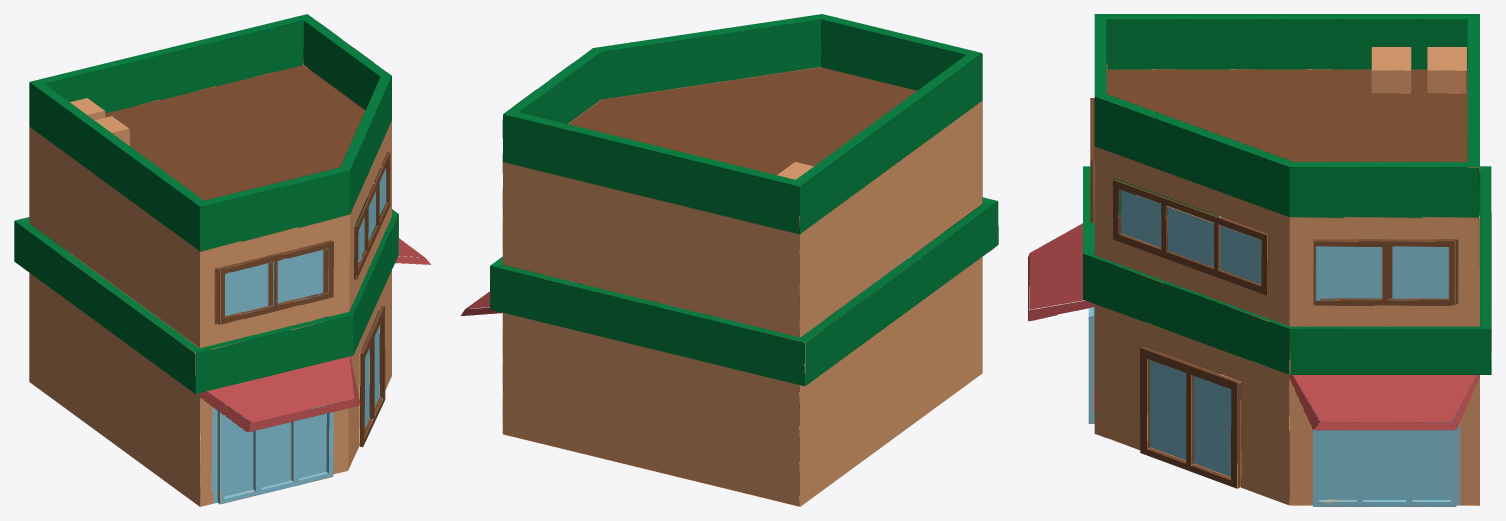
The model's file is Coffee place.fbx.
The picture shows the model from 3 angles, left to right: view 1: azimuth 30°, elevation 25°; view 2: azimuth 150°, elevation 25°; view 3: azimuth 270°, elevation 25°; orthographic projection. The views are drawn at different scales.
Visible parts, largest first — view 1: cafe; view 2: cafe; view 3: cafe.
Boxes of the visible parts, x1=… form: cafe: x1=14, y1=14, x2=430, y2=506; cafe: x1=461, y1=14, x2=998, y2=506; cafe: x1=1028, y1=14, x2=1491, y2=506.
Bounding box in the file's own units: 2222 × 1882 × 2339.
Materials: 5 (5 with a texture image).
